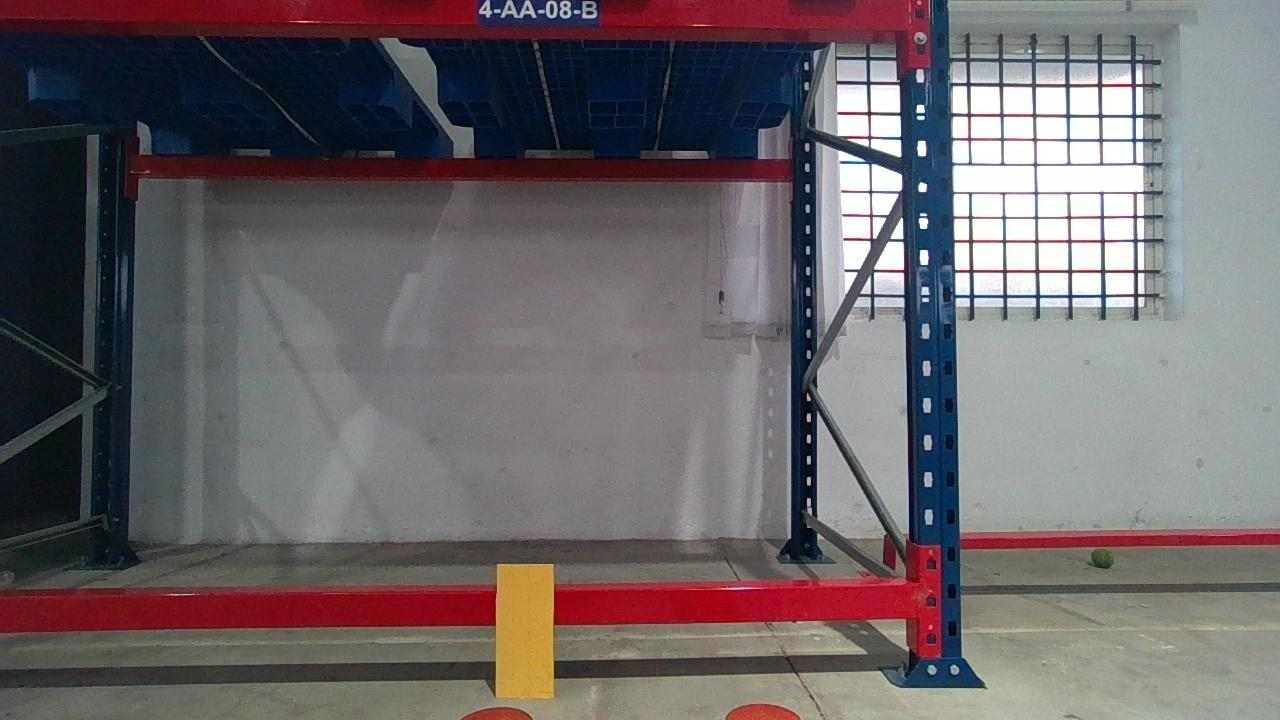h_rack: (0, 587, 923, 627), (5, 0, 916, 31)
orange_strip: (495, 563, 554, 696)
